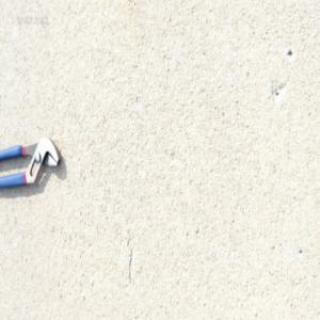Pliertrack_idkeyframe: (0, 134, 62, 191)
